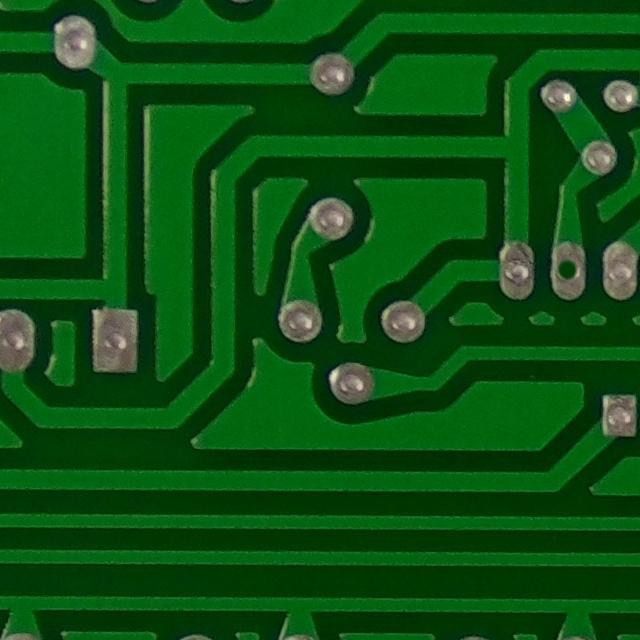missing_hole: (537, 244, 595, 299)
